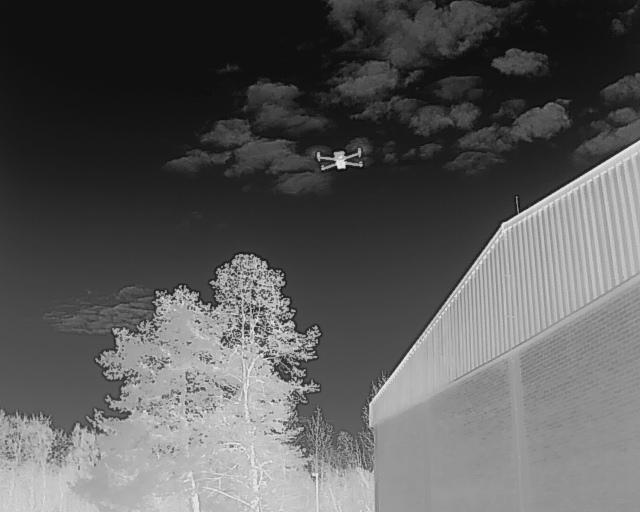drone: (310, 143, 368, 179)
